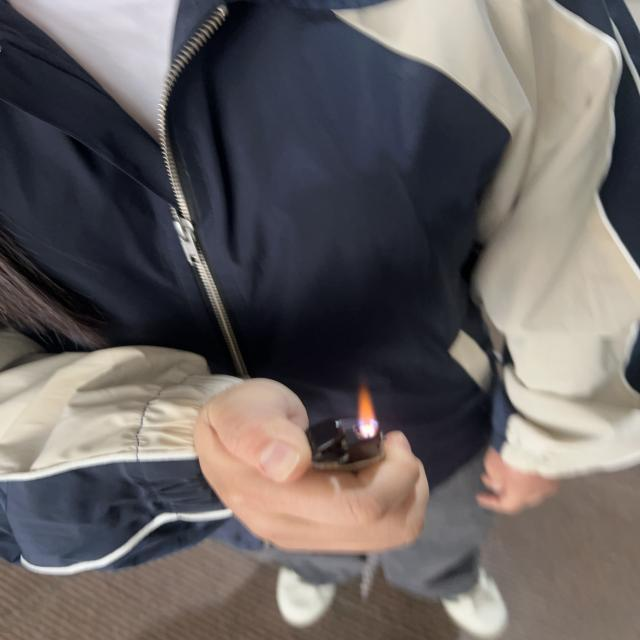fire: (358, 382, 380, 440)
